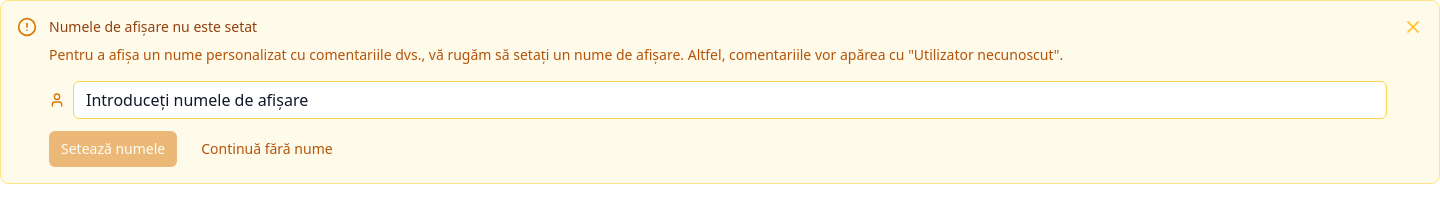
it: DisplayNameNotification › enables submit button when input has value
This screenshot has width=1440, height=201.
Type "John Doe" into the field with placeholder "Introduceți numele de afișare" at (730, 100), box [73,81,1387,119]
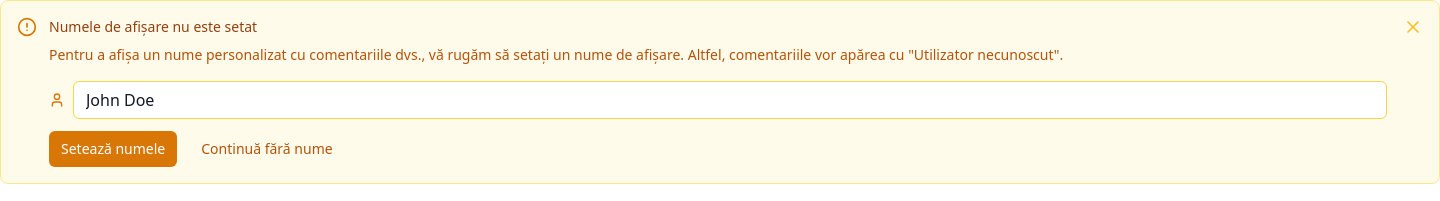
Expected: the button "Setează numele" is enabled, [49,131,177,167]
